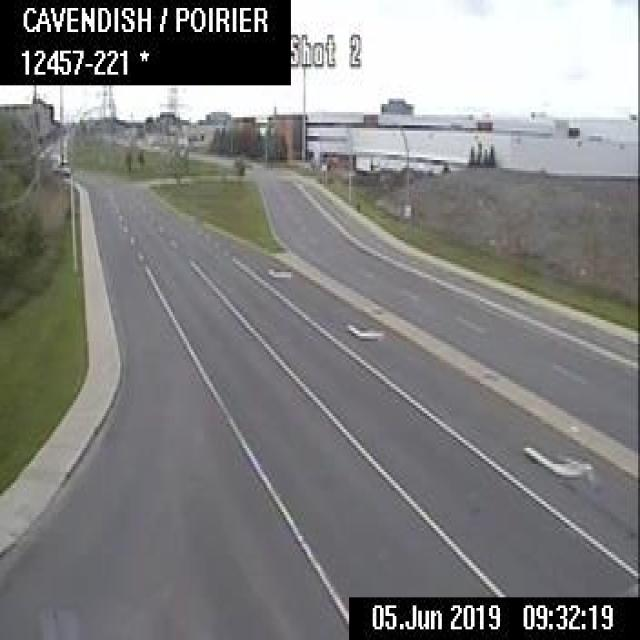vehicle: (53, 138, 67, 170)
